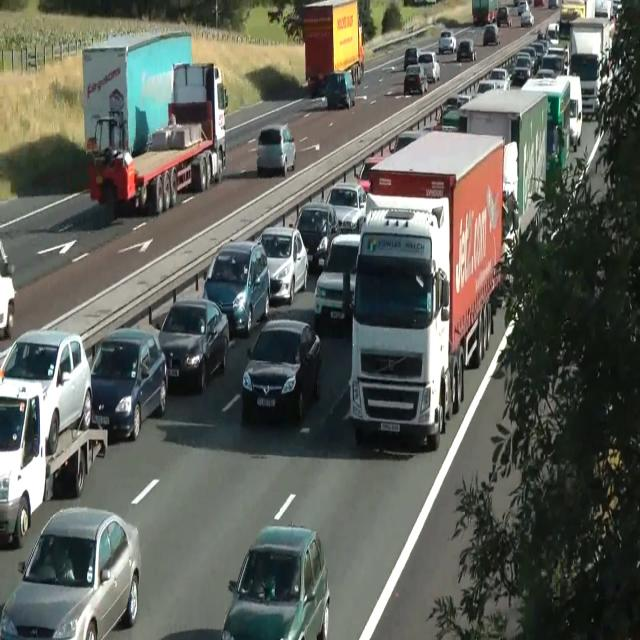bus: (0, 506, 142, 639), (0, 378, 107, 548), (220, 521, 330, 639), (0, 329, 92, 455), (90, 327, 168, 441), (241, 318, 321, 424), (158, 298, 230, 393), (202, 240, 270, 337), (256, 226, 308, 305), (292, 202, 338, 272), (326, 181, 368, 234), (256, 124, 296, 176), (320, 70, 356, 110), (357, 153, 385, 194), (0, 272, 16, 339), (393, 130, 429, 154), (404, 64, 428, 94), (537, 54, 565, 78), (418, 52, 440, 82), (511, 55, 533, 85), (517, 46, 539, 74), (487, 68, 511, 90), (456, 38, 476, 62), (438, 30, 456, 54), (482, 23, 500, 45), (403, 46, 419, 70), (476, 79, 500, 95), (496, 5, 512, 28), (594, 0, 612, 20), (546, 22, 558, 46), (520, 10, 534, 28), (611, 0, 622, 20), (517, 0, 529, 16), (548, 0, 558, 8)
car: (145, 61, 228, 183)
jeep: (314, 232, 360, 329)
minibus: (349, 129, 505, 449), (82, 30, 228, 217), (458, 87, 548, 244), (302, 0, 364, 96), (520, 74, 570, 188), (566, 17, 614, 120), (472, 0, 498, 26)
